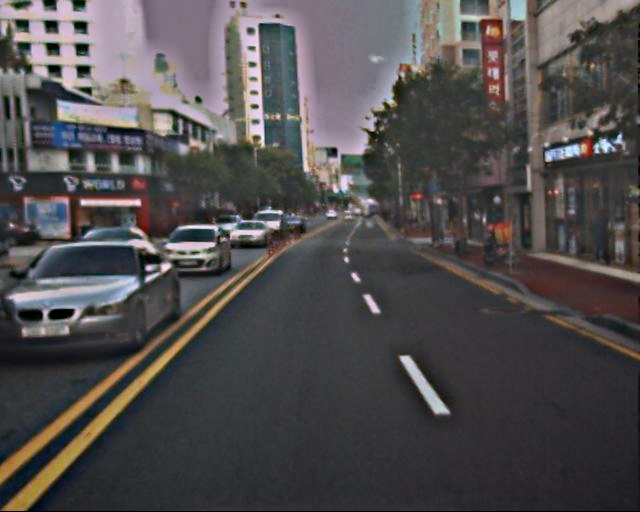person: (585, 206, 614, 265)
